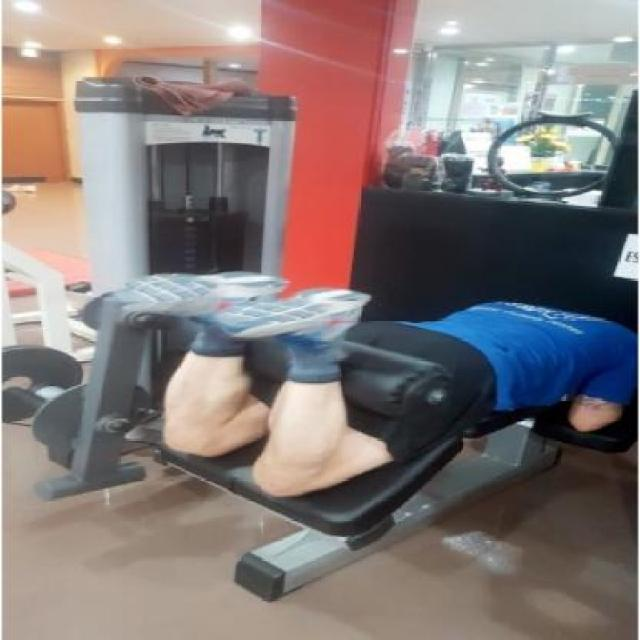reg curl machine: (21, 69, 640, 601)
